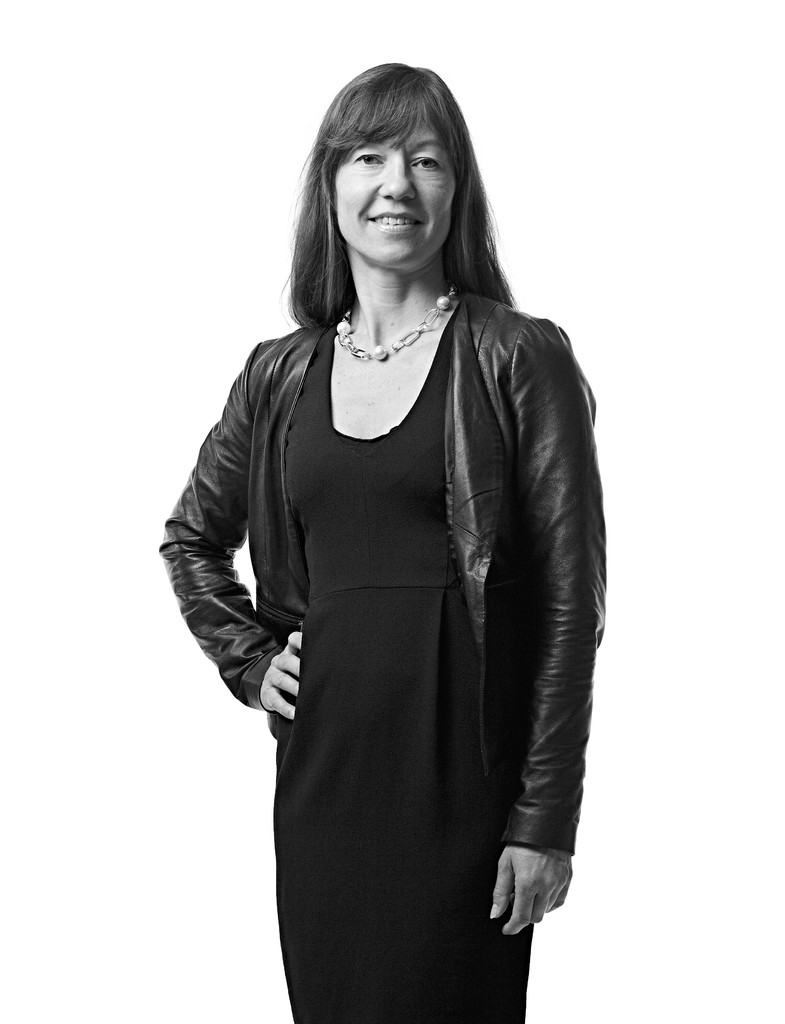Human_hand: (492, 837, 577, 934), (263, 628, 302, 719)
